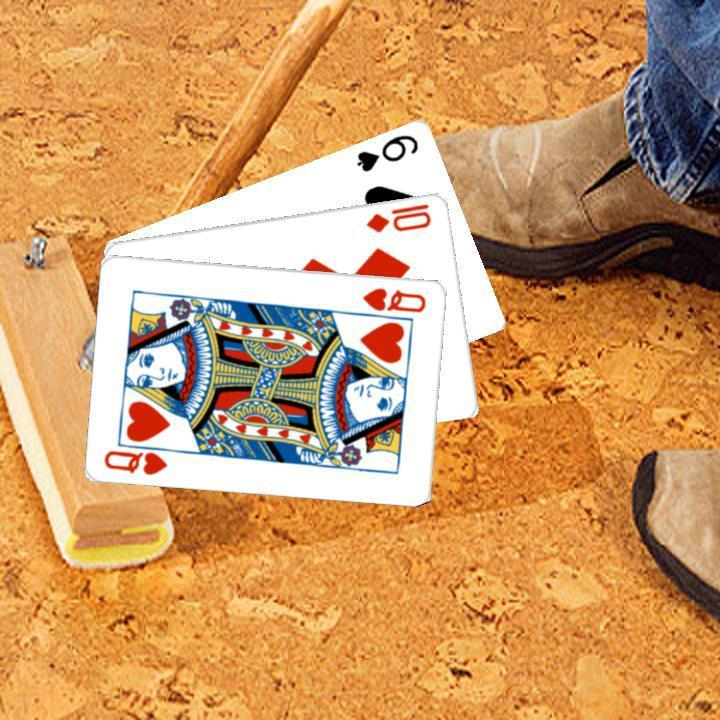10: (362, 198, 434, 234)
6: (352, 129, 421, 174)
Q: (100, 437, 180, 476), (359, 282, 429, 314)
